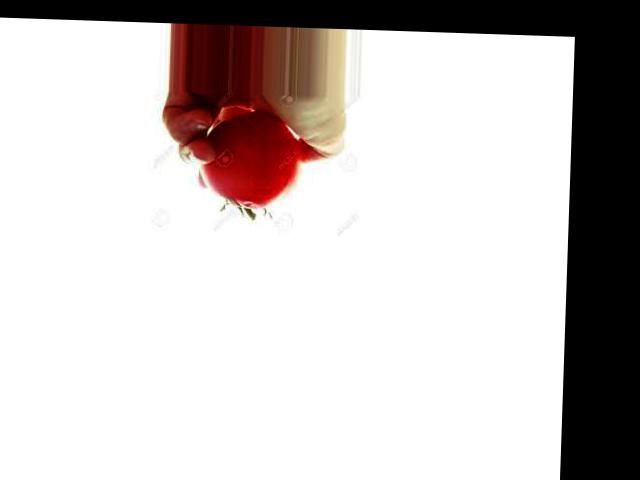tomato: (197, 110, 301, 211)
